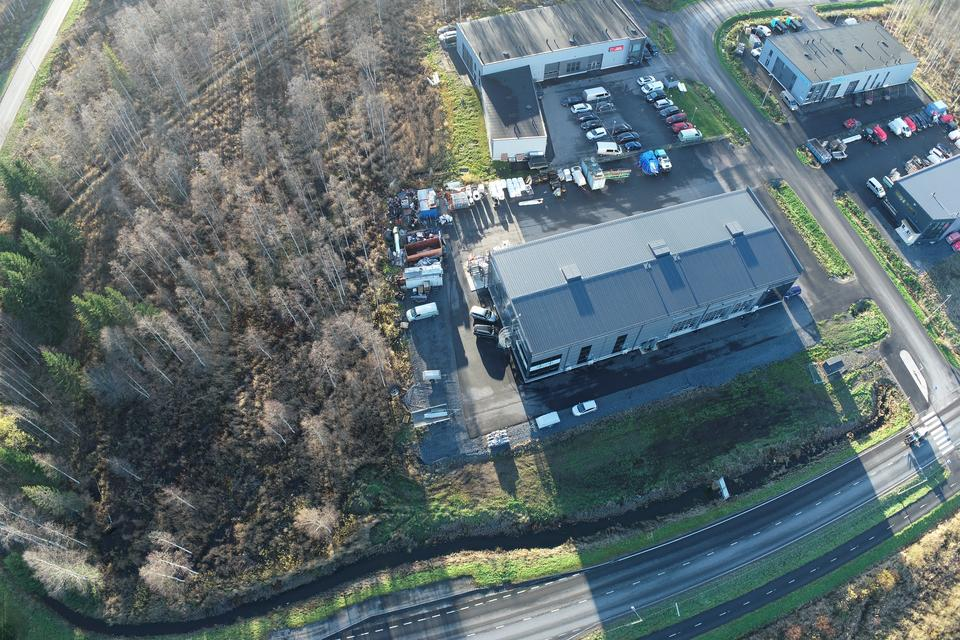intersection: (878, 355, 960, 574)
